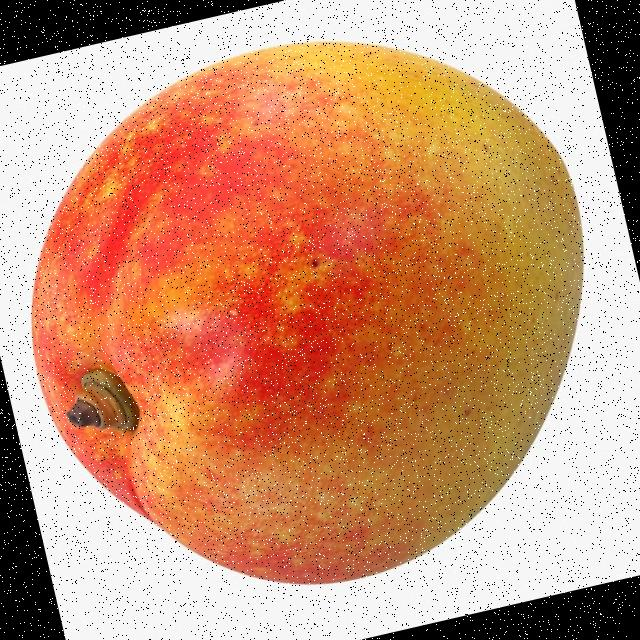mango: (32, 42, 584, 583)
